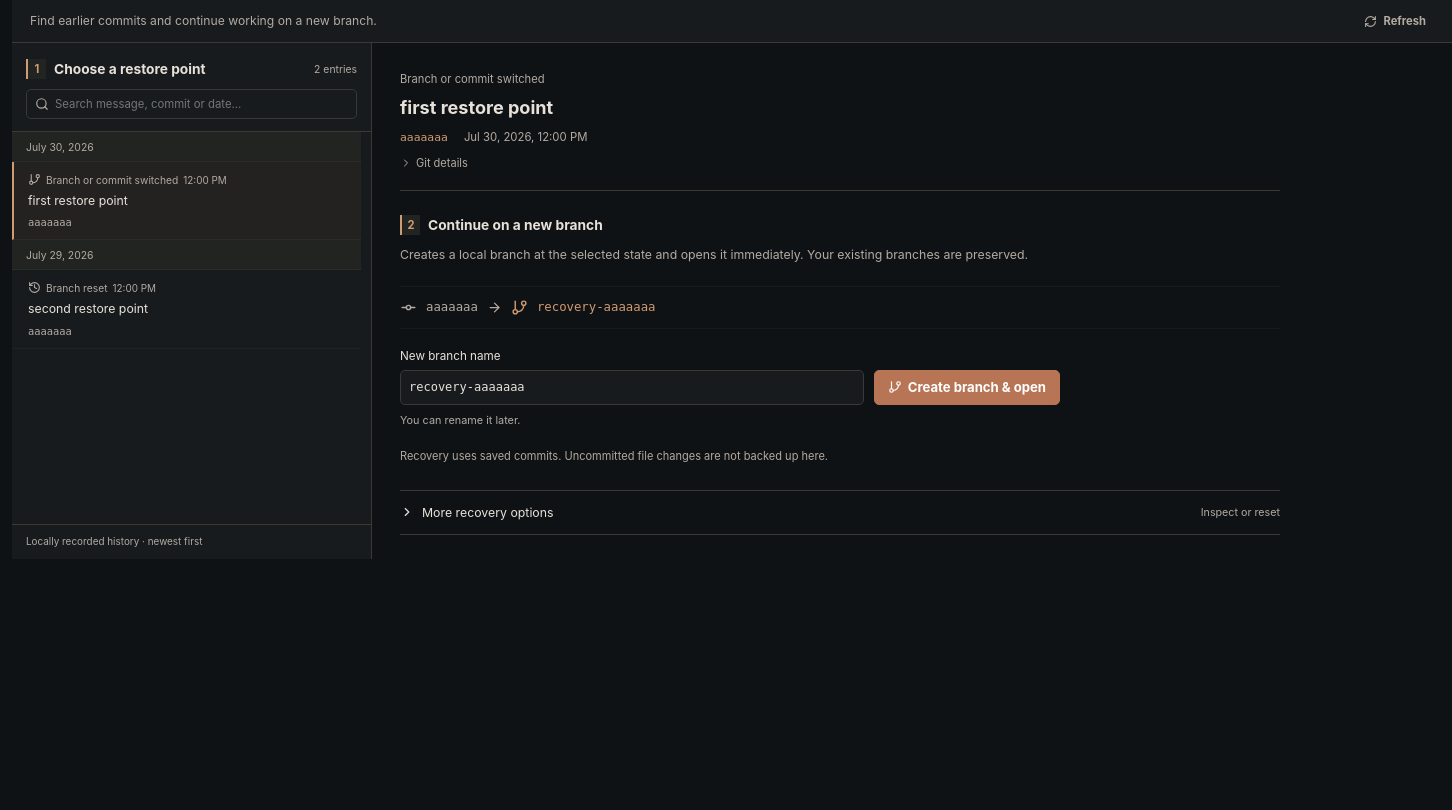
Test: RecoveryCenter › keeps reflog positions with the same commit independently selectable
Expected: the heading "first restore point" is shown, [400,96,553,118]
Step 1. Click the button with class "recovery-center__history-item" that starts with "Branch reset" → point(77, 288), box [12,270,361,349]
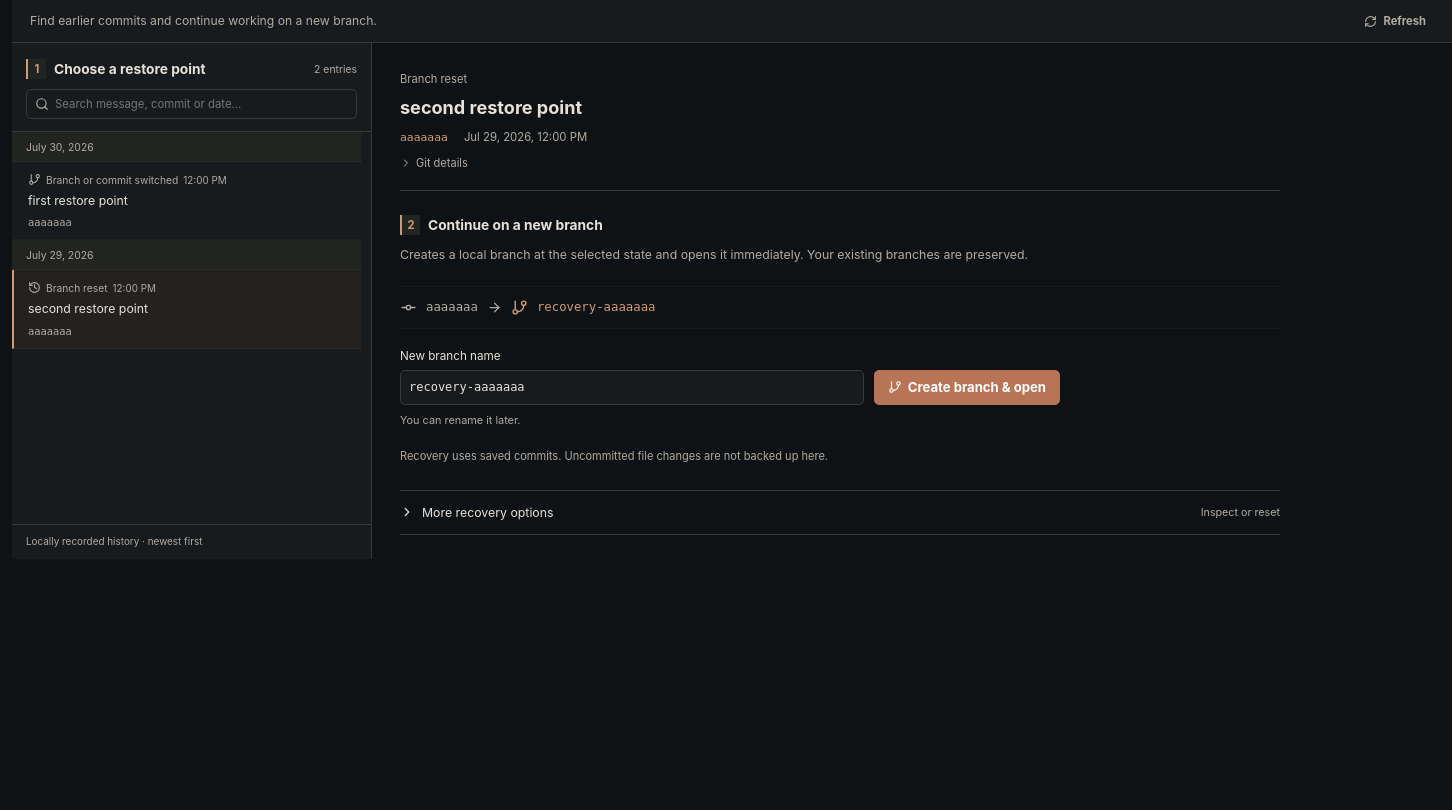
Now the heading "second restore point" is shown, box [400,96,582,118]
